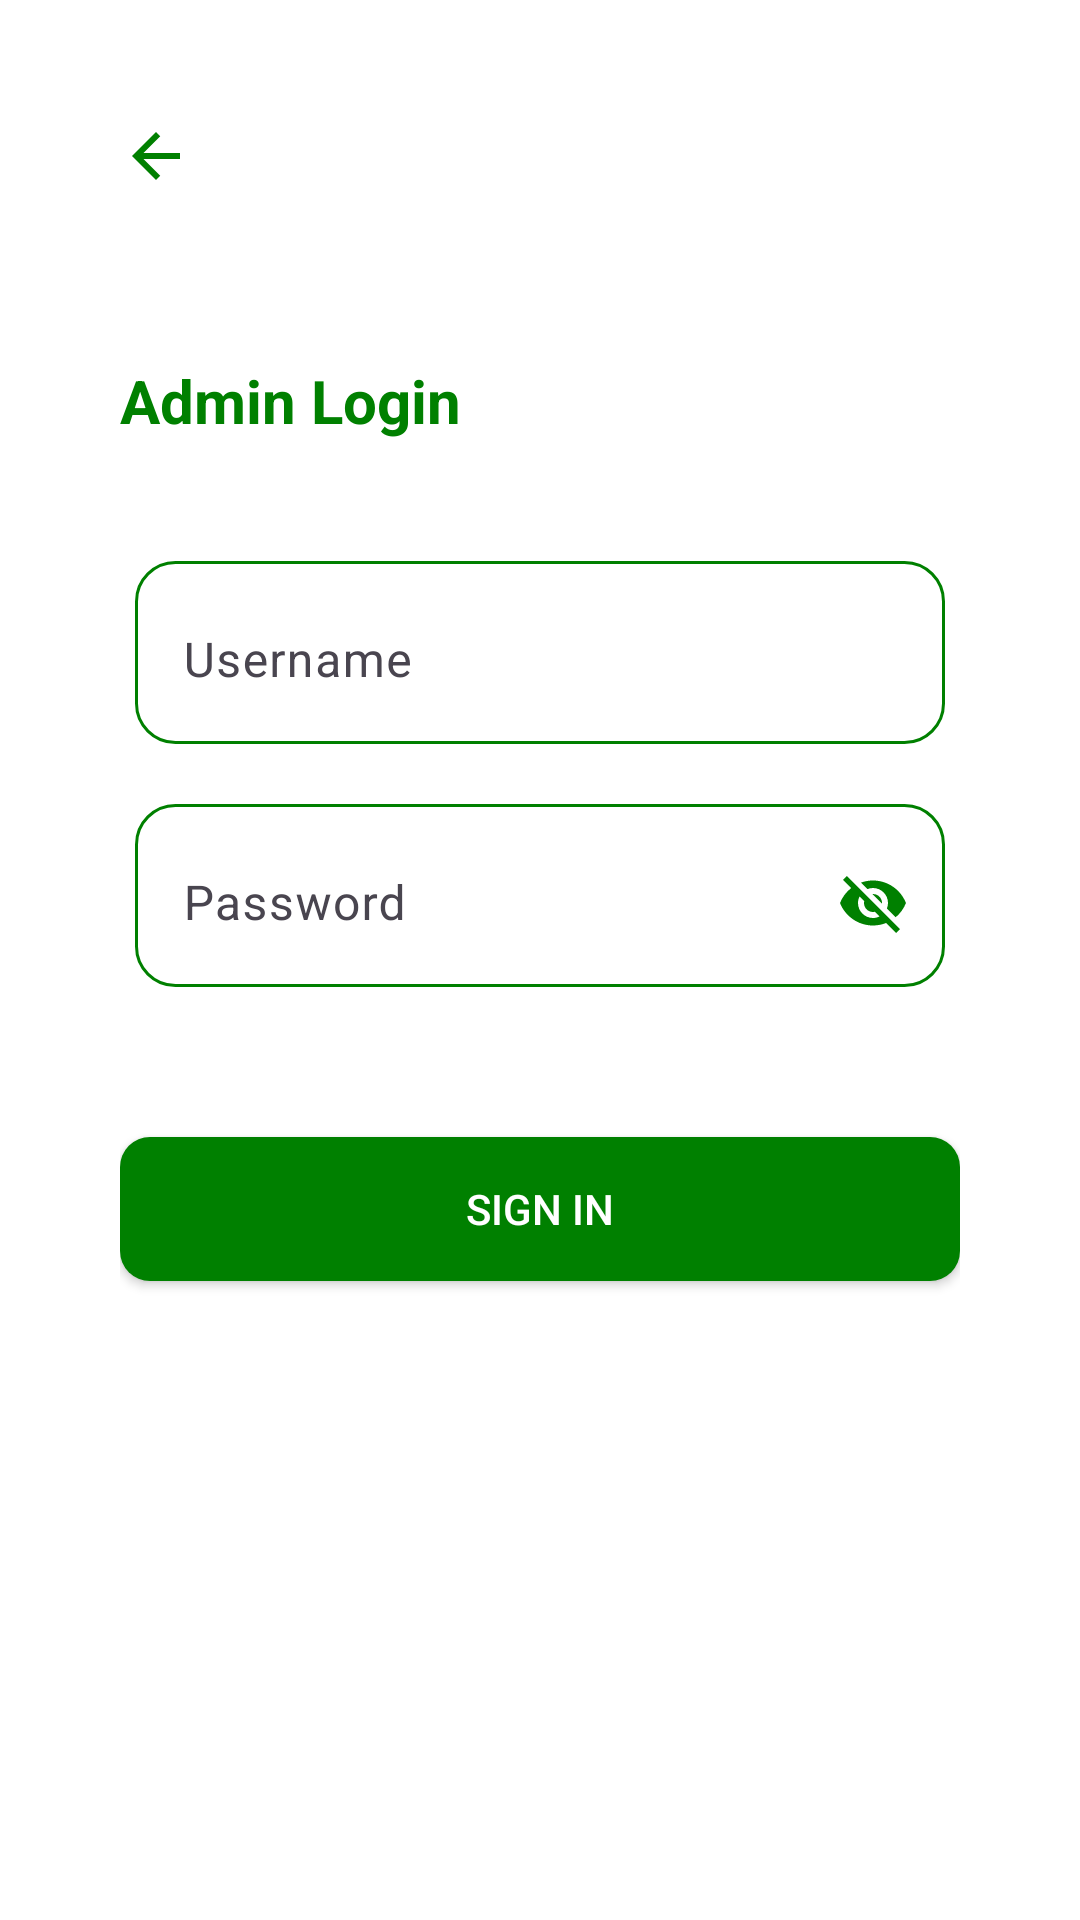

Icons on this 1080x1920 Android screen, each with its box as (x1=x1, y1=y1, x2=x2, y2=y2):
arrow back: (x1=132, y1=132, x2=180, y2=180)
